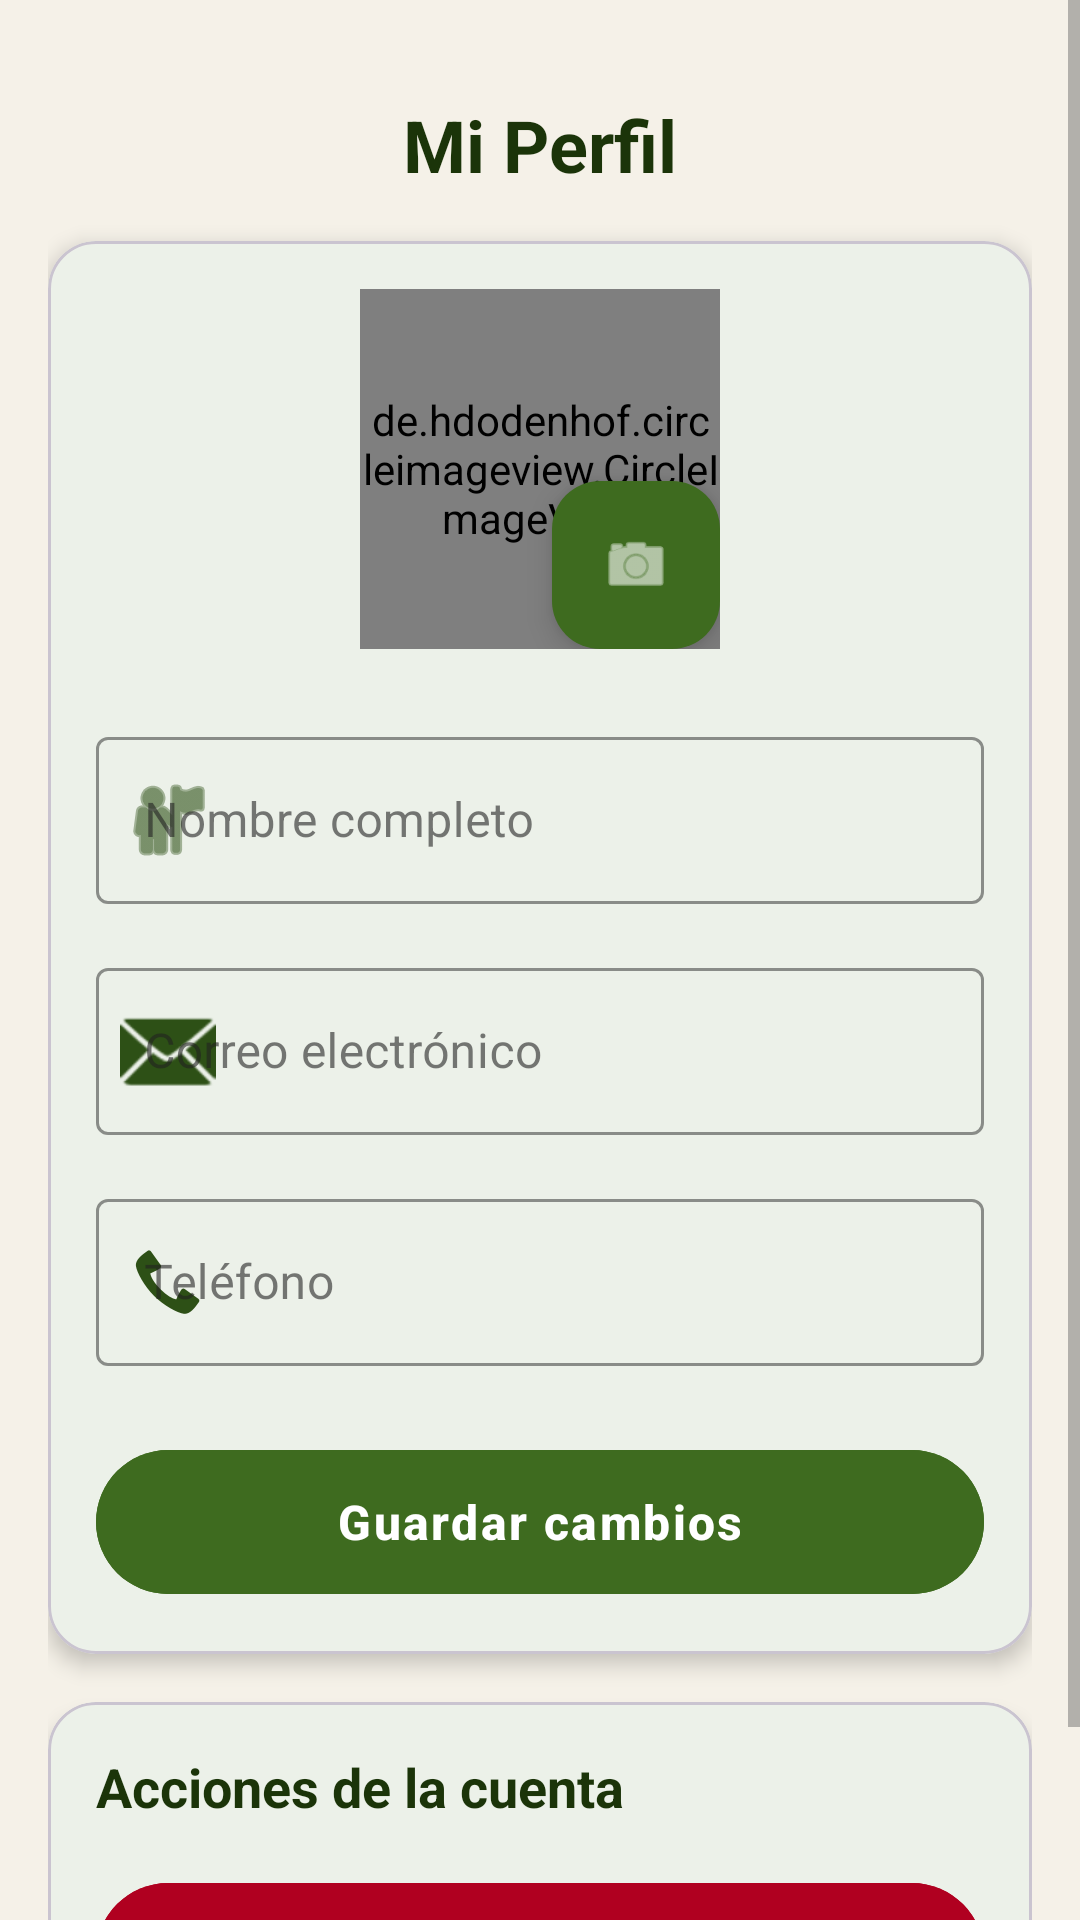

Point at icon controls on the screen. Image size 1080 x 1920, points as (x,y).
Cambiar foto de perfil: (636,565)
